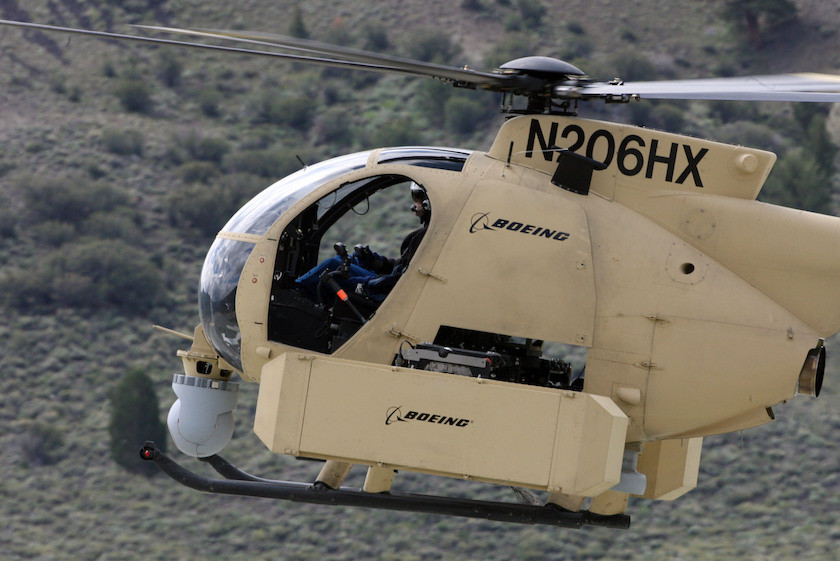MilitaryHelicopter: (203, 44, 819, 478)
